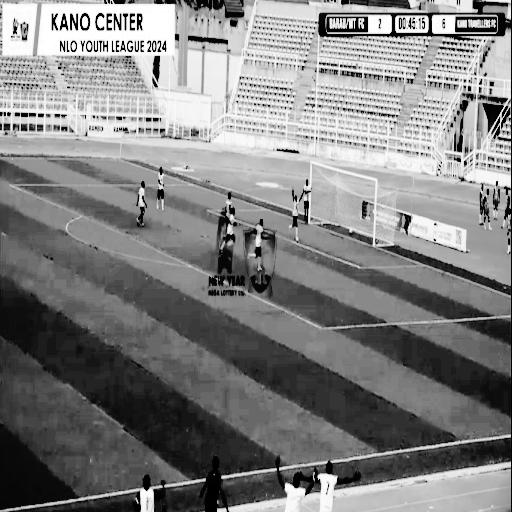ball: (344, 223, 357, 239)
keeper2: (223, 176, 236, 226)
team1: (246, 208, 272, 283), (290, 191, 306, 256), (228, 204, 242, 262)
team2: (136, 178, 148, 233), (156, 164, 166, 220)
